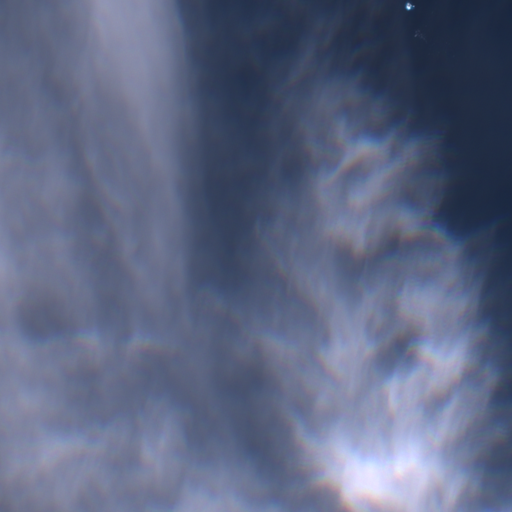Iceberg: (405, 2, 414, 10)
